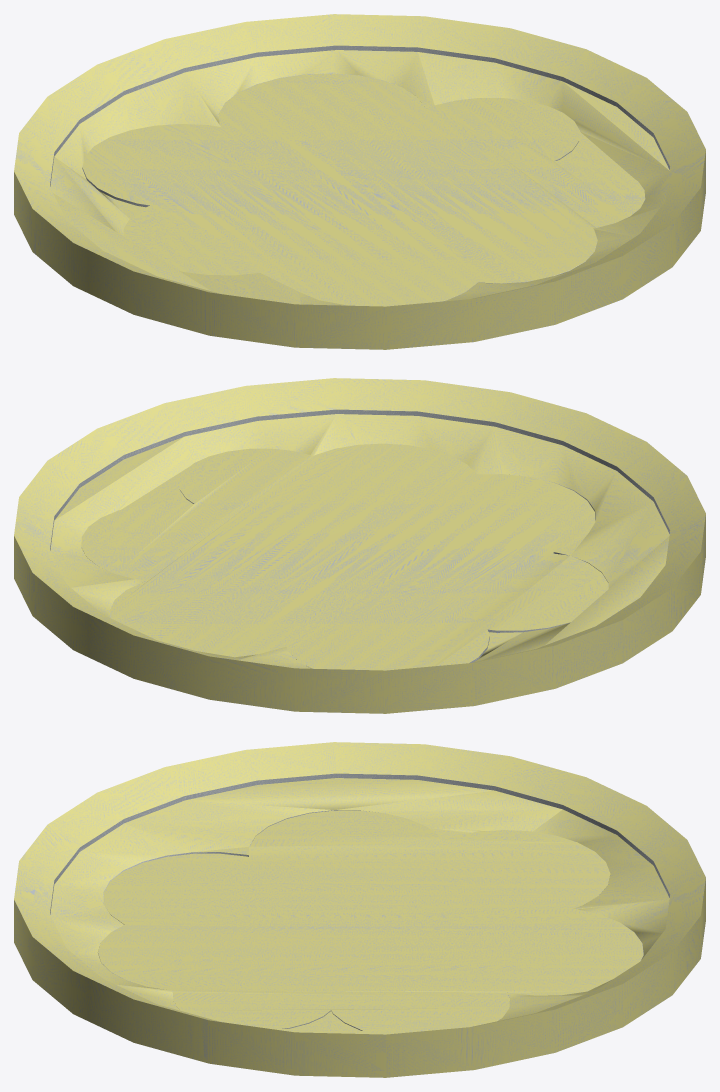
Rendered from tray.dae.
3 renders of one model, top to bottom at view 1: azimuth 30°, elevation 25°; view 2: azimuth 150°, elevation 25°; view 3: azimuth 270°, elevation 25°, orthographic.
Parts seen in each view (by area): view 1: SketchUp_003, SketchUp, SketchUp_001; view 2: SketchUp_003, SketchUp, SketchUp_001; view 3: SketchUp_003, SketchUp, SketchUp_001, SketchUp_002.
Part boxes in pixels (x1,y1,x2,y2): SketchUp_003: [50, 50, 669, 306]; SketchUp: [14, 14, 705, 349]; SketchUp_001: [50, 45, 669, 186]; SketchUp_003: [50, 414, 669, 670]; SketchUp: [14, 378, 705, 713]; SketchUp_001: [50, 409, 669, 550]; SketchUp_003: [50, 778, 669, 1034]; SketchUp: [14, 742, 705, 1077]; SketchUp_001: [50, 773, 669, 914]; SketchUp_002: [98, 810, 643, 1030].
Bounding box in the file's own units: 0.3456 × 0.3456 × 0.0239.
